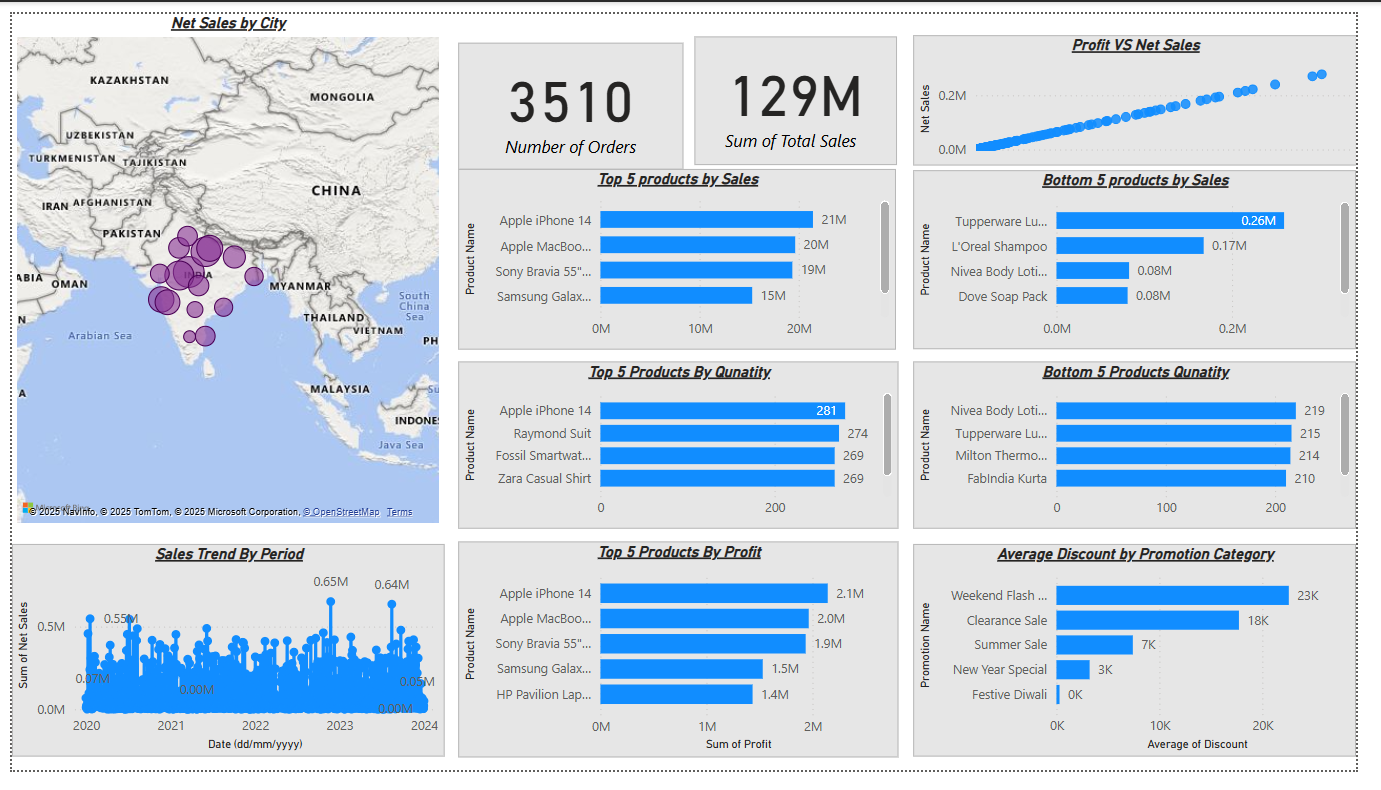

What the dashboard file says about the page in this screenshot:
{"tool":"powerbi","page":{"name":"Overview","canvas":[1280,720],"ordinal":0},"visuals":[{"type":"lineChart","title":"Sales Trend By Period","fields":{"Y":["Sum(Fact table.Net Sales  )"],"Category":["Fact table.Date (dd/mm/yyyy).Variation.Date Hierarchy.Year"]},"box":[0,505,411.8,202.8],"z":0},{"type":"scatterChart","title":"Profit VS Net Sales  ","fields":{"X":["Fact table.Profit"],"Y":["Fact table.Net Sales  "]},"box":[857.9,20,422.1,124.2],"z":1000},{"type":"barChart","title":"Average Discount by Promotion Category","fields":{"Y":["Avg(Fact table.Discount)"],"Category":["Dim Promotion.Promotion Name"]},"box":[858.3,505,421.7,202.8],"z":2000},{"type":"map","fields":{"Category":["Dim Customers.City"],"Size":["Sum(Fact table.Net Sales  )"]},"box":[0,0,411.8,490.1],"z":3000},{"type":"card","fields":{"Values":["Count(Fact table.Order ID)"]},"box":[425.3,27.4,214.7,121.1],"z":4000},{"type":"barChart","title":"Bottom 5 Products Qunatity","fields":{"Category":["Dim Product.Product Name"],"Y":["Sum(Fact table.Units Sold)"]},"box":[858.3,330.9,421.7,159.2],"z":4001},{"type":"barChart","title":"Top 5 products by Sales","fields":{"Category":["Dim Product.Product Name"],"Y":["Sum(Fact table.Net Sales  )"]},"box":[425.4,148,416.7,171.7],"z":4003},{"type":"barChart","title":"Top 5 Products By Qunatity","fields":{"Category":["Dim Product.Product Name"],"Y":["Sum(Fact table.Units Sold)"]},"box":[425.4,330.9,419.2,159.2],"z":4004},{"type":"barChart","title":"Top 5 Products By Profit","fields":{"Category":["Dim Product.Product Name"],"Y":["Sum(Fact table.Profit)"]},"box":[425.4,502.6,419.2,205.3],"z":4005},{"type":"card","fields":{"Values":["Sum(Fact table.Total Sales  )"]},"box":[649.5,21.1,192.6,122.1],"z":4006},{"type":"barChart","title":"Bottom 5 products by Sales","fields":{"Category":["Dim Product.Product Name"],"Y":["Sum(Fact table.Net Sales  )"]},"box":[858.3,148.8,421.4,170.2],"z":4007}]}

Visuals, with their boxes in screenshot pixels (x1, y1, x2, y2), scaled from the page's 1280x720 canvas onto the 1381x790 screenshot:
"Sales Trend By Period" lineChart: (x1=0, y1=554, x2=444, y2=777)
"Profit VS Net Sales  " scatterChart: (x1=926, y1=22, x2=1380, y2=158)
"Average Discount by Promotion Category" barChart: (x1=926, y1=554, x2=1380, y2=777)
map - Dim Customers.City x Sum(Fact table.Net Sales  ): (x1=0, y1=0, x2=444, y2=538)
card - Count(Fact table.Order ID): (x1=459, y1=30, x2=690, y2=163)
"Bottom 5 Products Qunatity" barChart: (x1=926, y1=363, x2=1380, y2=538)
"Top 5 products by Sales" barChart: (x1=459, y1=162, x2=909, y2=351)
"Top 5 Products By Qunatity" barChart: (x1=459, y1=363, x2=911, y2=538)
"Top 5 Products By Profit" barChart: (x1=459, y1=551, x2=911, y2=777)
card - Sum(Fact table.Total Sales  ): (x1=701, y1=23, x2=909, y2=157)
"Bottom 5 products by Sales" barChart: (x1=926, y1=163, x2=1380, y2=350)
